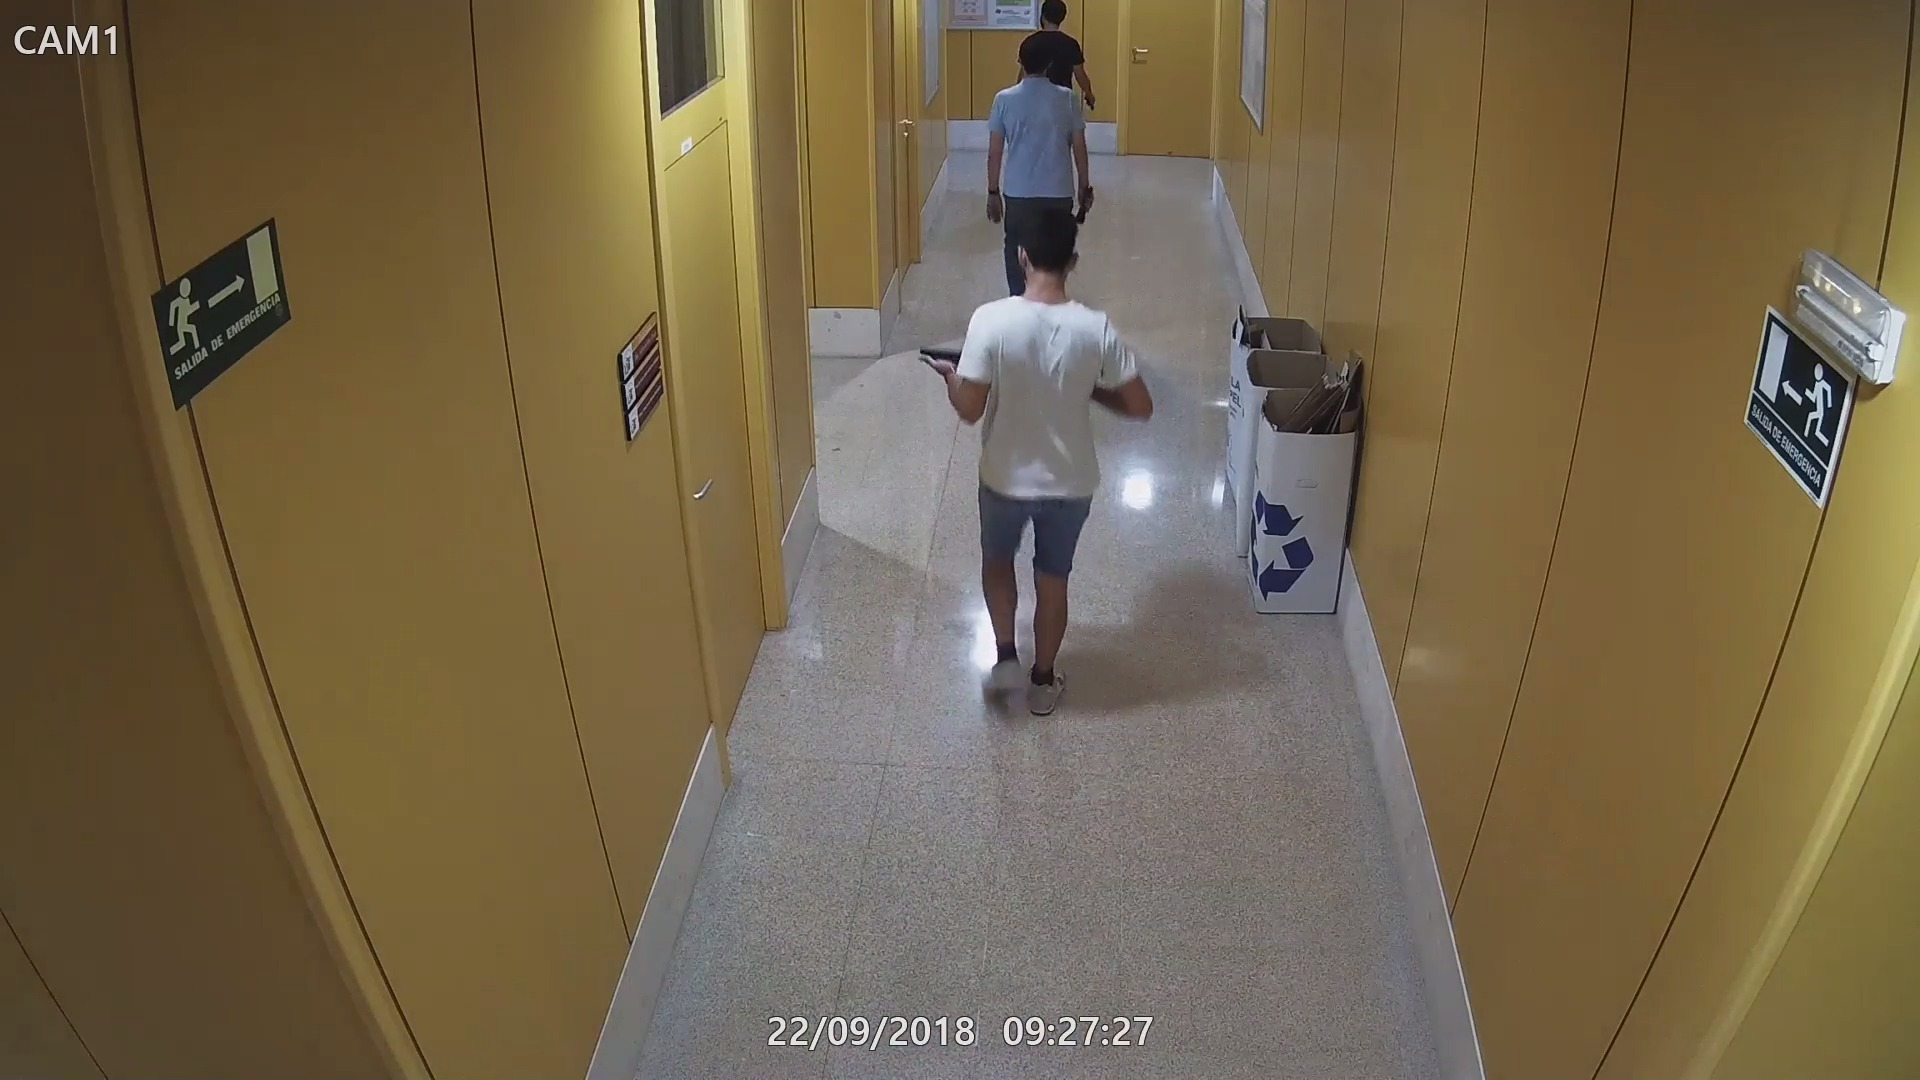pistol: (1077, 84, 1104, 112)
rifle: (916, 345, 963, 376)
